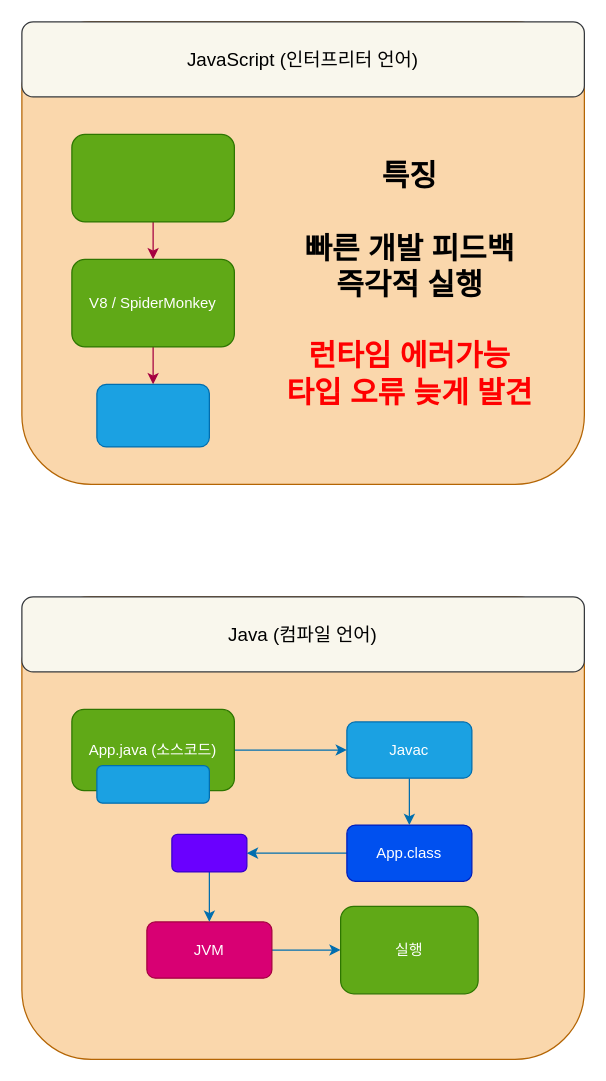
This 606x1081 diagram has some shape labels left out. Each missing label, with the centre of its shape:
index.js(소스코드): [152,177]
java: [209,852]
바로 실행: [152,415]
컴파일 타임 체크: [152,783]
